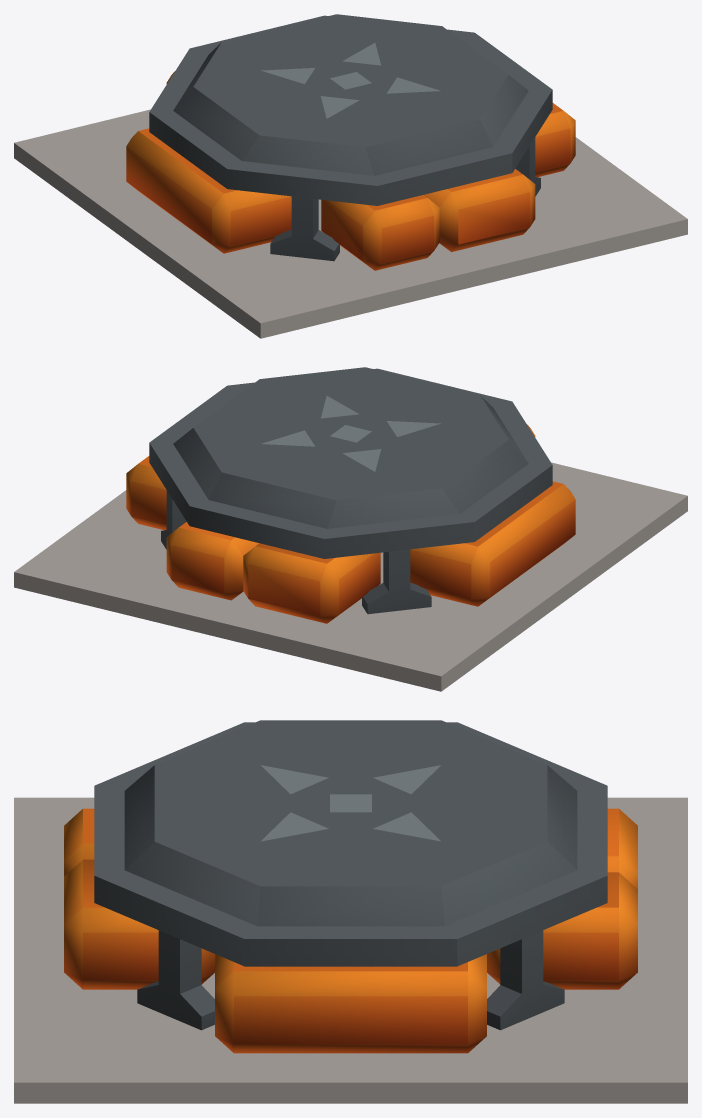
The model's file is landing_station.glb.
3 views of the same model, one above another, from view 1: azimuth 30°, elevation 25°; view 2: azimuth 150°, elevation 25°; view 3: azimuth 270°, elevation 25° (orthographic). The views are drawn at different scales.
Parts seen in each view (by area): view 1: Landingstation; view 2: Landingstation; view 3: Landingstation.
Part boxes in pixels (bbox=[...]): Landingstation: bbox=[14, 14, 687, 338]; Landingstation: bbox=[14, 367, 687, 691]; Landingstation: bbox=[14, 720, 687, 1103].
Bounding box in the file's own units: 0.29 × 0.075 × 0.29.
1 material, 1 textured.
